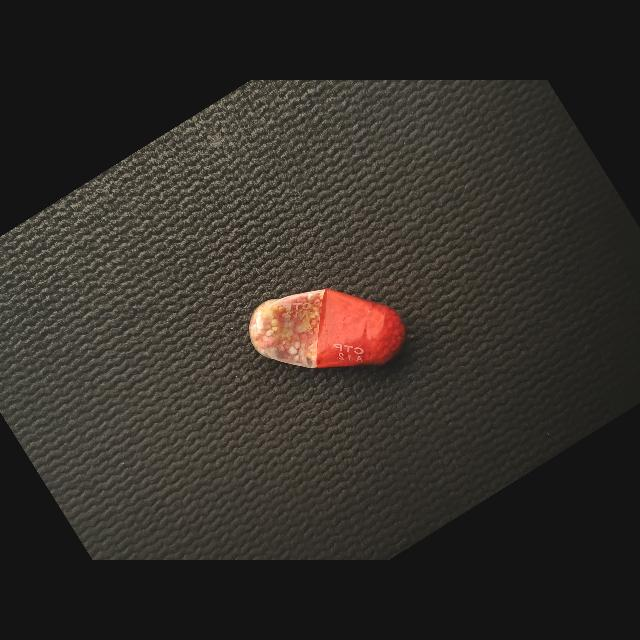Defective Capsule: (249, 288, 405, 368)
